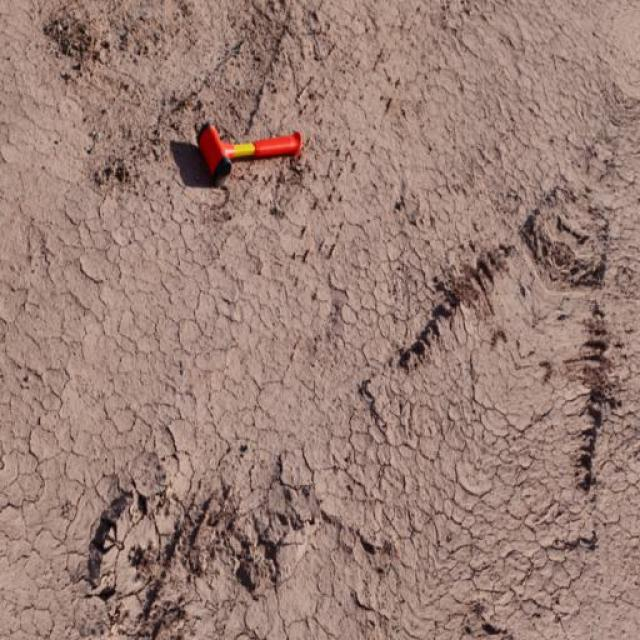mallet: (194, 119, 302, 181)
